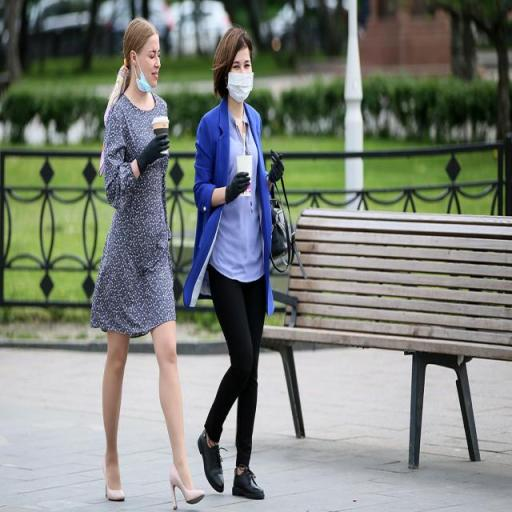person: (95, 19, 207, 508), (195, 27, 286, 504)
